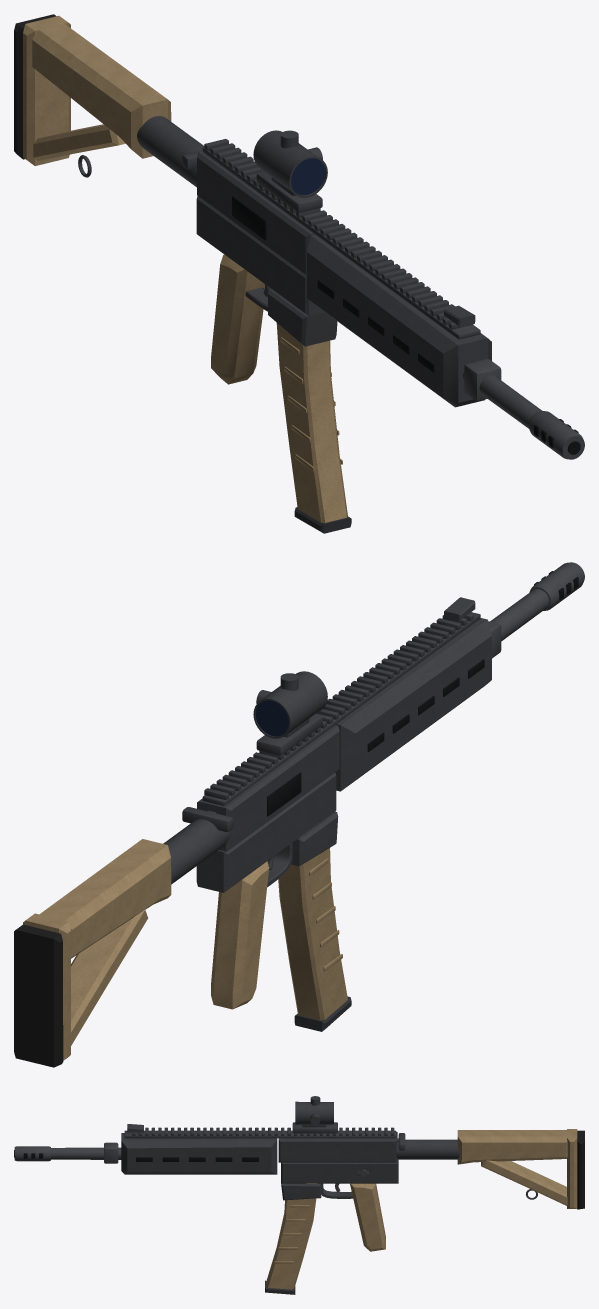
Rendered from AR15_AssaultRifle.glb.
3 renders of one model, top to bottom at view 1: azimuth 30°, elevation 25°; view 2: azimuth 150°, elevation 25°; view 3: azimuth 270°, elevation 25°, orthographic. The views are drawn at different scales.
Parts seen in each view (by area): view 1: Rifle, Magazine; view 2: Rifle, Magazine, Charging_Handle; view 3: Rifle, Magazine.
Boxes of the visible parts, x1,y1,x2,y2 form: Rifle: (14,14,584,459); Magazine: (276,323,351,533); Rifle: (14,562,584,1067); Magazine: (278,836,351,1031); Charging_Handle: (182,807,233,831); Rifle: (14,1096,584,1251); Magazine: (265,1183,316,1294).
Size of the model in its own units: 0.0514 by 0.33 by 0.8832.
Materials: 8 (4 with a texture image).
